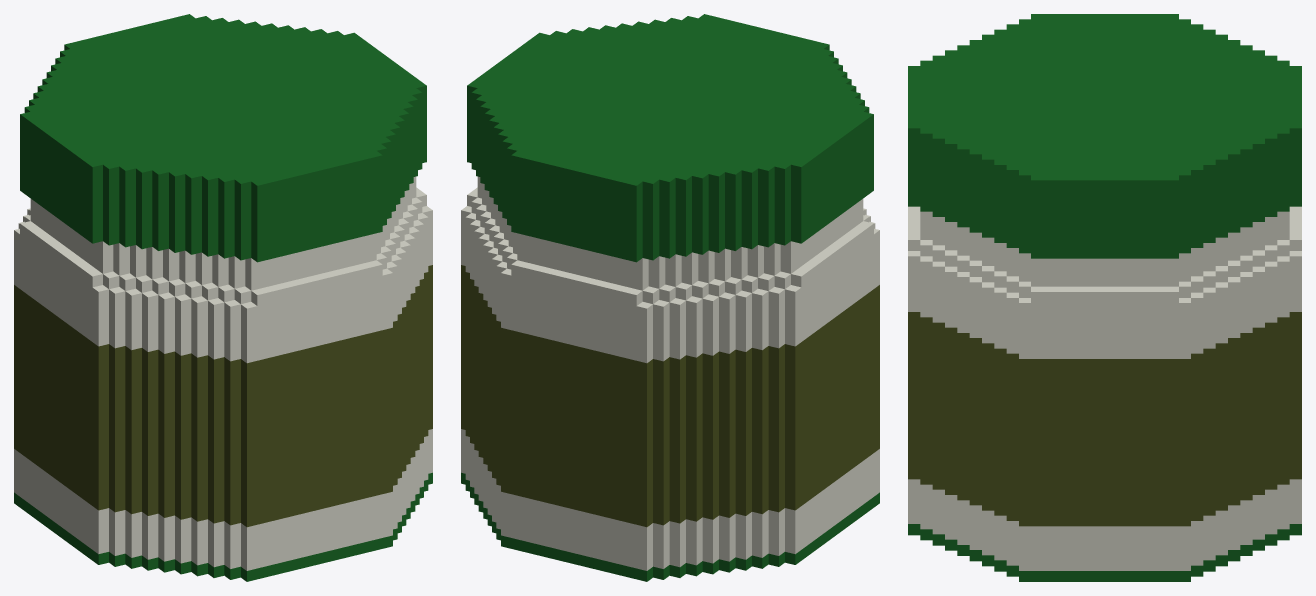
The model's file is antiparasitic.glb.
3 renders of one model, left to right at view 1: azimuth 30°, elevation 25°; view 2: azimuth 150°, elevation 25°; view 3: azimuth 270°, elevation 25°, orthographic. The views are drawn at different scales.
Visible parts, largest first — view 1: antiparasitic:vessel; view 2: antiparasitic:vessel; view 3: antiparasitic:vessel.
Part boxes in pixels (x1,y1,x2,y2): antiparasitic:vessel: (14,14,432,581); antiparasitic:vessel: (461,14,879,581); antiparasitic:vessel: (908,14,1301,581).
Size of the model in its own units: 0.064 by 0.072 by 0.064.
